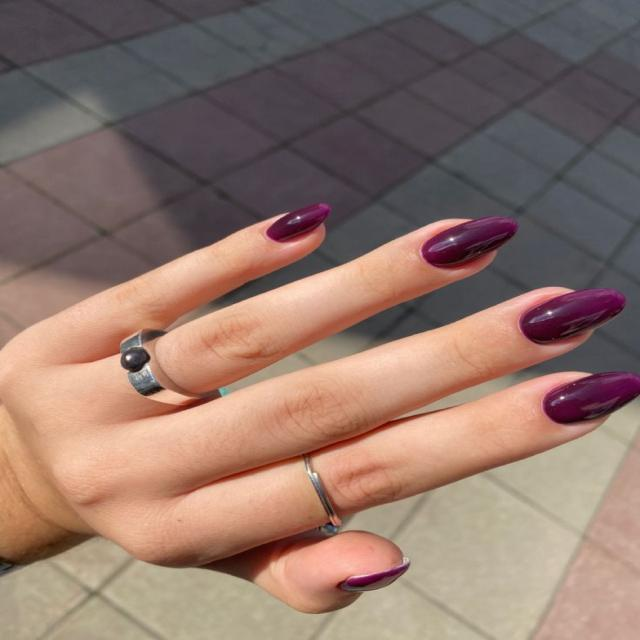Fingernail: (523, 287, 624, 345), (545, 373, 638, 427), (423, 216, 515, 270), (267, 203, 328, 244)
